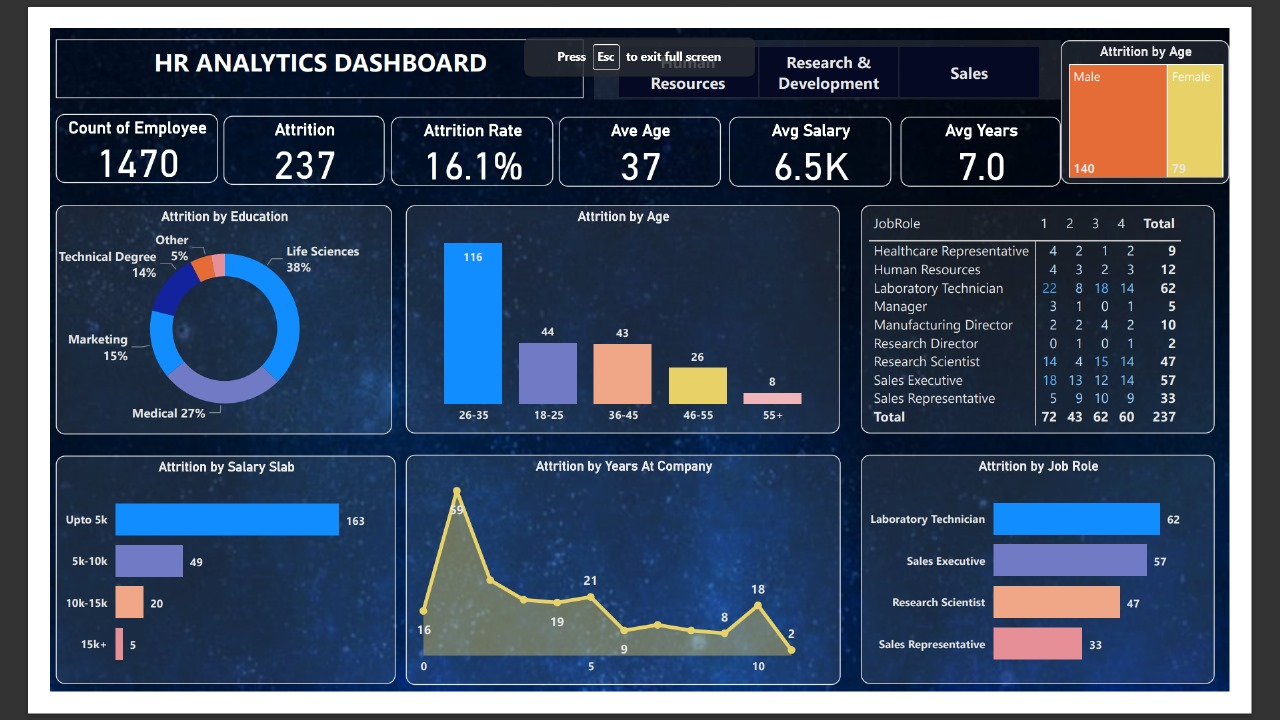

The page's visual inventory and layout, read from the dashboard file:
{"tool":"powerbi","page":{"name":"Page 1","canvas":[1280,720],"ordinal":0},"visuals":[{"type":"card","title":"Count of Employee","fields":{"Values":["CountNonNull(HR_Analytics.EmpID)"]},"box":[5.9,92.6,175.6,75.5],"z":0},{"type":"card","title":"Attrition","fields":{"Values":["Sum(HR_Analytics.Attrition_count)"]},"box":[188.1,95.3,174.9,74.8],"z":1000},{"type":"card","title":"Attrition Rate","fields":{"Values":["HR_Analytics.Attrition_rate"]},"box":[370.3,96.5,176.1,74.8],"z":2000},{"type":"card","title":"Ave Age","fields":{"Values":["Avg(HR_Analytics.Age)"]},"box":[552.4,96.5,176.1,76],"z":3000},{"type":"card","title":"Avg Salary","fields":{"Values":["Avg(HR_Analytics.MonthlyIncome)"]},"box":[736.9,96.5,176.1,76],"z":4000},{"type":"card","title":"Avg Years","fields":{"Values":["Avg(HR_Analytics.YearsAtCompany)"]},"box":[922.6,96.5,174.9,76],"z":5000},{"type":"donutChart","title":"Attrition by Education","fields":{"Category":["HR_Analytics.EducationField"],"Y":["Sum(HR_Analytics.Attrition_count)"]},"box":[6.3,192.2,364.2,248.4],"z":6000},{"type":"columnChart","title":"Attrition by Age","fields":{"Y":["Sum(HR_Analytics.Attrition_count)"],"Category":["HR_Analytics.AgeGroup"]},"box":[385.9,191.8,471.6,248.4],"z":7000},{"type":"pivotTable","fields":{"Rows":["HR_Analytics.JobRole"],"Columns":["HR_Analytics.EnvironmentSatisfaction"],"Values":["Sum(HR_Analytics.Attrition_count)"]},"box":[880.4,191.8,383.5,248.4],"z":8000},{"type":"barChart","title":"Attrition by Salary Slab","fields":{"Category":["HR_Analytics.SalarySlab"],"Y":["Sum(HR_Analytics.Attrition_count)"]},"box":[6.3,463.6,369,248.4],"z":9000},{"type":"barChart","title":"Attrition by Job Role","fields":{"Category":["HR_Analytics.JobRole"],"Y":["Sum(HR_Analytics.Attrition_count)"]},"box":[880.4,463.1,383.5,248.4],"z":10000},{"type":"areaChart","title":"Attrition by Years At Company","fields":{"Category":["HR_Analytics.YearsAtCompany"],"Y":["Sum(HR_Analytics.Attrition_count)"]},"box":[385.9,462.9,472,249.7],"z":11000},{"type":"treemap","title":"Attrition by Age","fields":{"Group":["HR_Analytics.Gender"],"Values":["Sum(HR_Analytics.Attrition_count)"]},"box":[1097.5,13.3,182.1,155.6],"z":12000},{"type":"slicer","fields":{"Values":["HR_Analytics.Department"]},"box":[591,13.3,506.5,63.9],"z":13000},{"type":"textbox","box":[6,12.1,572.9,63.9],"z":14000}]}

Visuals, with their boxes in screenshot pixels (x1, y1, x2, y2), scaled from the page's 1280x720 canvas onto the 1280x720 screenshot:
"Count of Employee" card: 6,93,182,168
"Attrition" card: 188,95,363,170
"Attrition Rate" card: 370,96,546,171
"Ave Age" card: 552,96,728,172
"Avg Salary" card: 737,96,913,172
"Avg Years" card: 923,96,1098,172
"Attrition by Education" donutChart: 6,192,370,441
"Attrition by Age" columnChart: 386,192,858,440
pivotTable - HR_Analytics.JobRole x HR_Analytics.EnvironmentSatisfaction: 880,192,1264,440
"Attrition by Salary Slab" barChart: 6,464,375,712
"Attrition by Job Role" barChart: 880,463,1264,712
"Attrition by Years At Company" areaChart: 386,463,858,713
"Attrition by Age" treemap: 1098,13,1279,169
slicer - HR_Analytics.Department: 591,13,1098,77
textbox: 6,12,579,76
